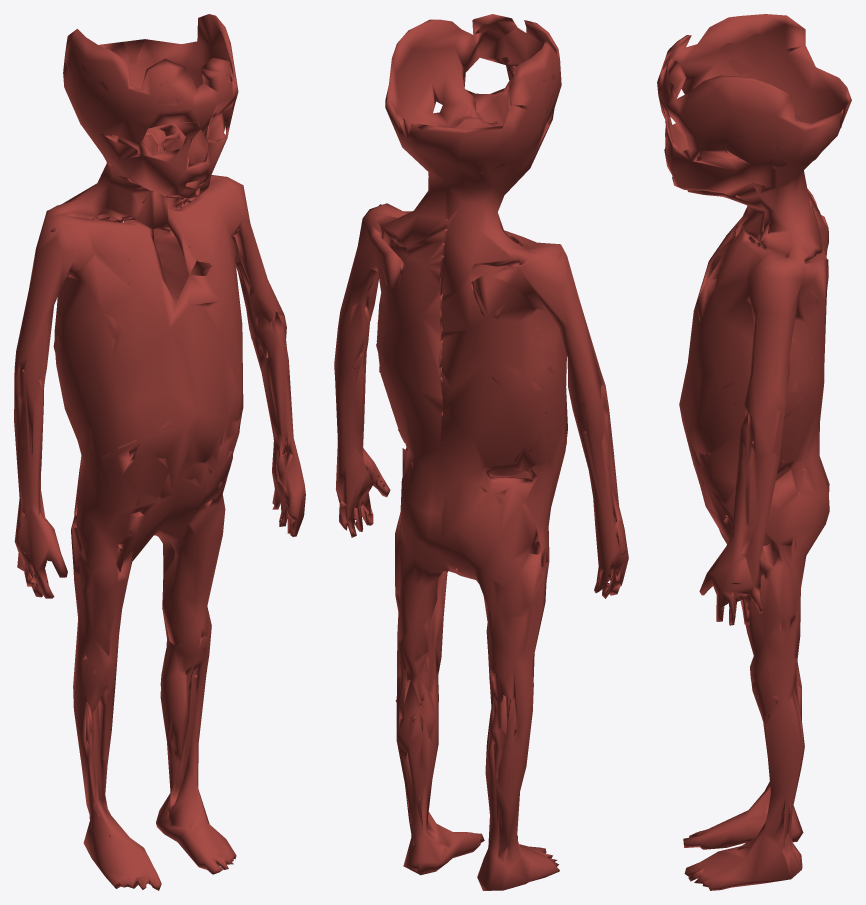
The model's file is pediatric_infant_male.muscular.LOD3.glb.
The picture shows the model from 3 angles, left to right: view 1: azimuth 30°, elevation 25°; view 2: azimuth 150°, elevation 25°; view 3: azimuth 270°, elevation 25°; orthographic projection. The views are drawn at different scales.
Visible parts, largest first — view 1: PEDIATRIC.INFANT.MALE.MUSCULAR.MUSCLE; view 2: PEDIATRIC.INFANT.MALE.MUSCULAR.MUSCLE; view 3: PEDIATRIC.INFANT.MALE.MUSCULAR.MUSCLE.
Part boxes in pixels (x1,y1,x2,y2): PEDIATRIC.INFANT.MALE.MUSCULAR.MUSCLE: [14, 14, 305, 890]; PEDIATRIC.INFANT.MALE.MUSCULAR.MUSCLE: [334, 14, 628, 890]; PEDIATRIC.INFANT.MALE.MUSCULAR.MUSCLE: [657, 14, 851, 890].
Size of the model in its own units: 0.256 by 0.7306 by 0.1576.
